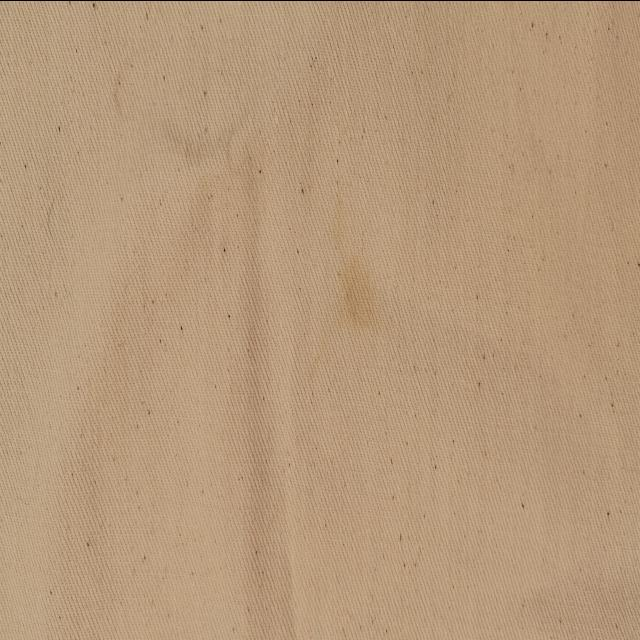taaaches: (338, 254, 377, 348)
